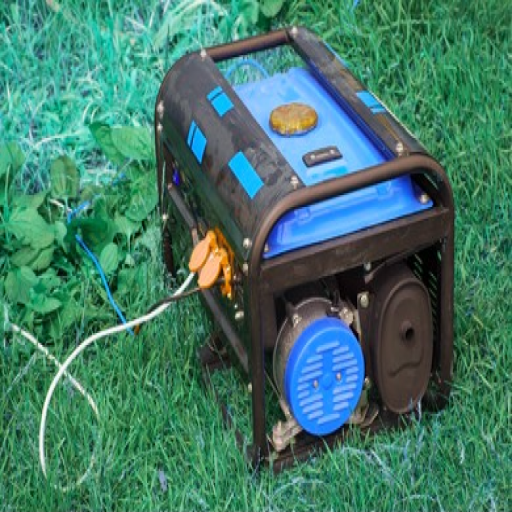portable_generator: (155, 26, 455, 474)
